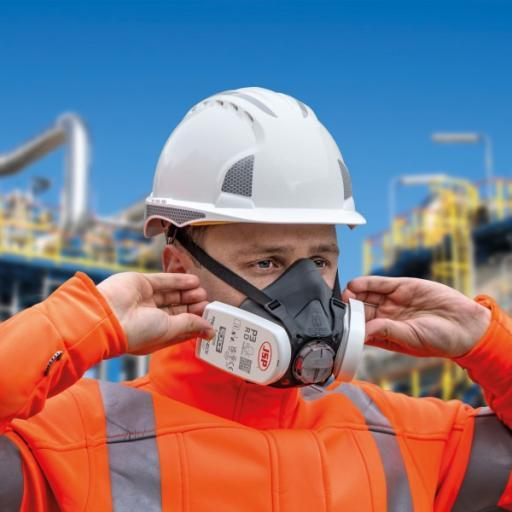mask: (192, 255, 385, 404)
